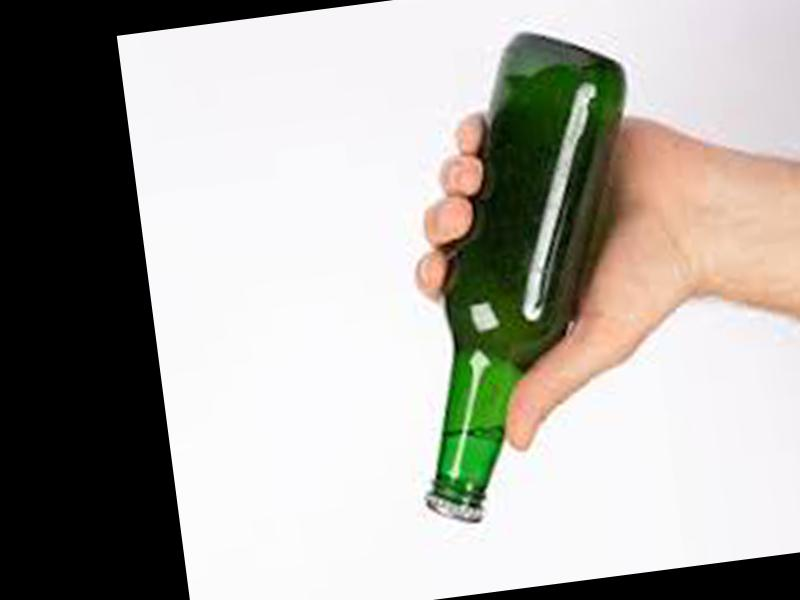Beer: (370, 25, 680, 531)
